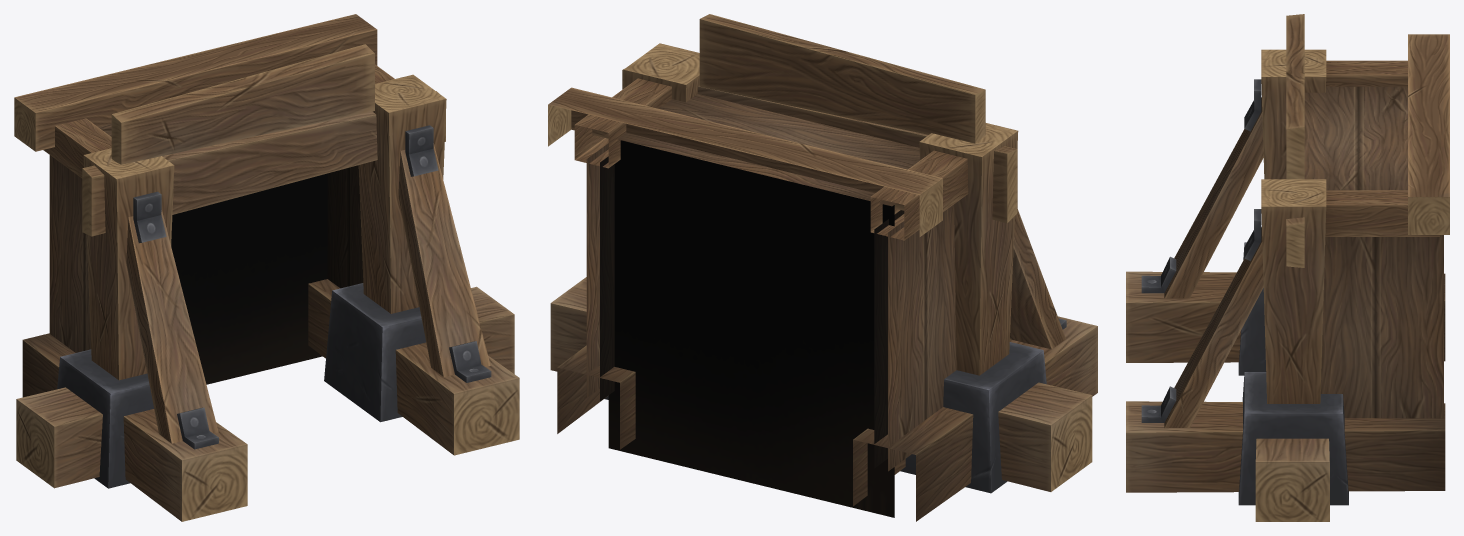
The model's file is Mine_Enter.fbx.
3 views of the same model, side by side, from view 1: azimuth 30°, elevation 25°; view 2: azimuth 150°, elevation 25°; view 3: azimuth 270°, elevation 25° (orthographic). The views are drawn at different scales.
Parts seen in each view (by area): view 1: polySurface1156; view 2: polySurface1156; view 3: polySurface1156.
Part boxes in pixels (x1,y1,x2,y2): polySurface1156: (14, 14, 519, 521); polySurface1156: (548, 14, 1097, 521); polySurface1156: (1126, 14, 1449, 521).
Size of the model in its own units: 199 by 148 by 124.
1 material, 1 textured.
